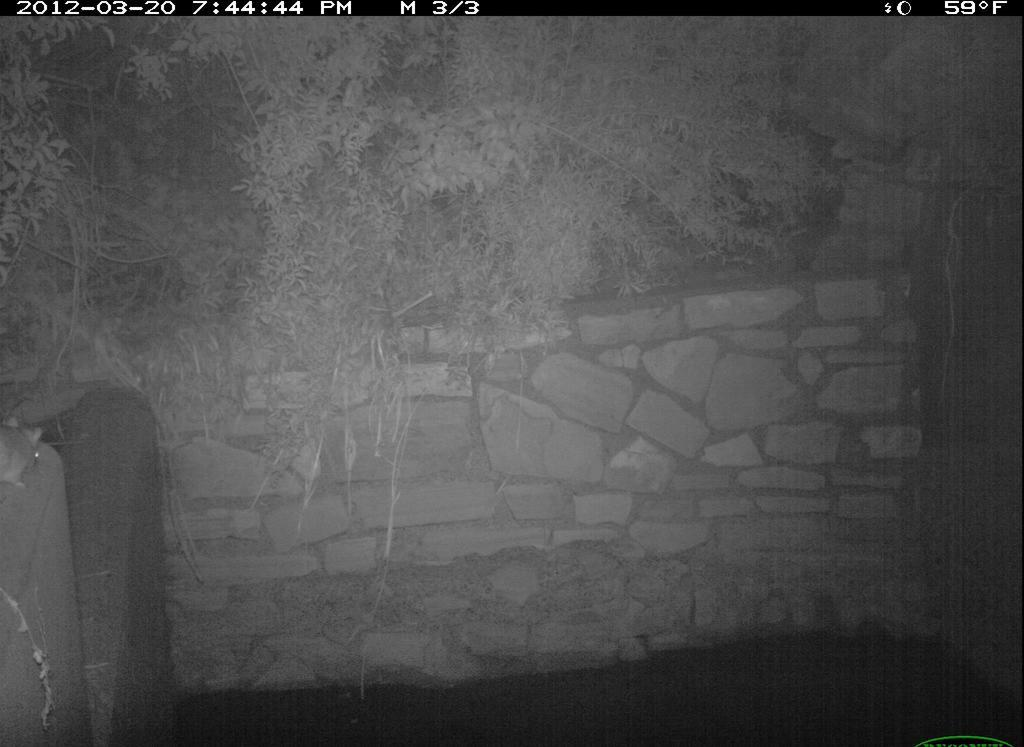rodent: (1, 404, 52, 499)
